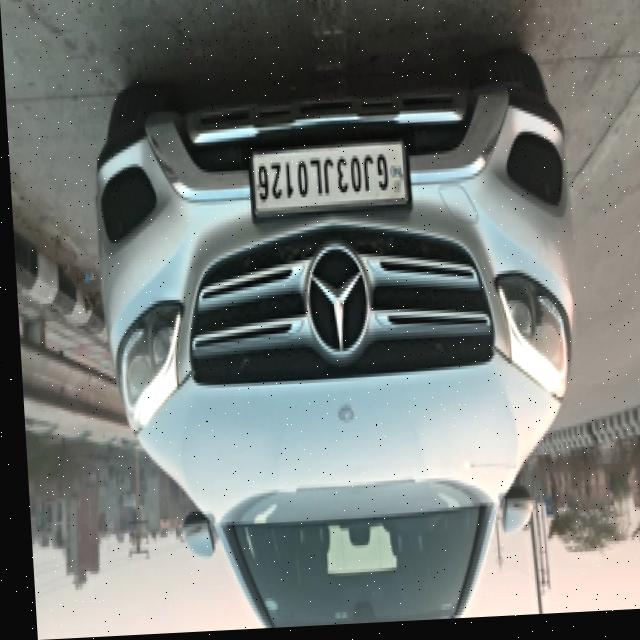plate: (245, 145, 411, 227)
